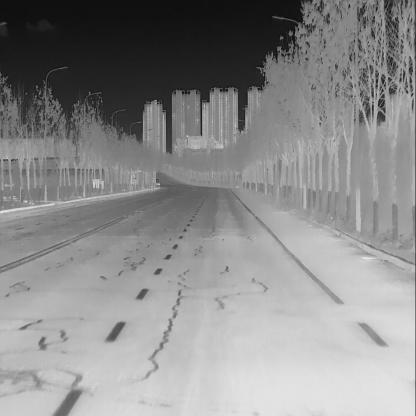car: (154, 177, 160, 187)
